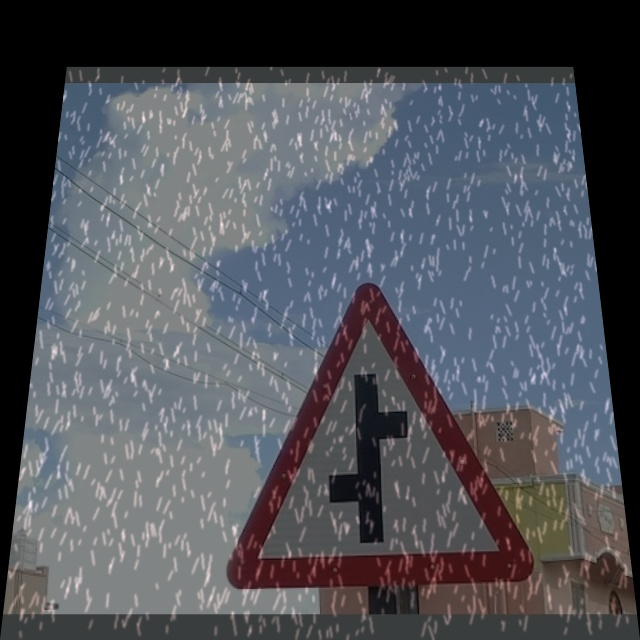Staggered_Intersection: (215, 261, 535, 594)
